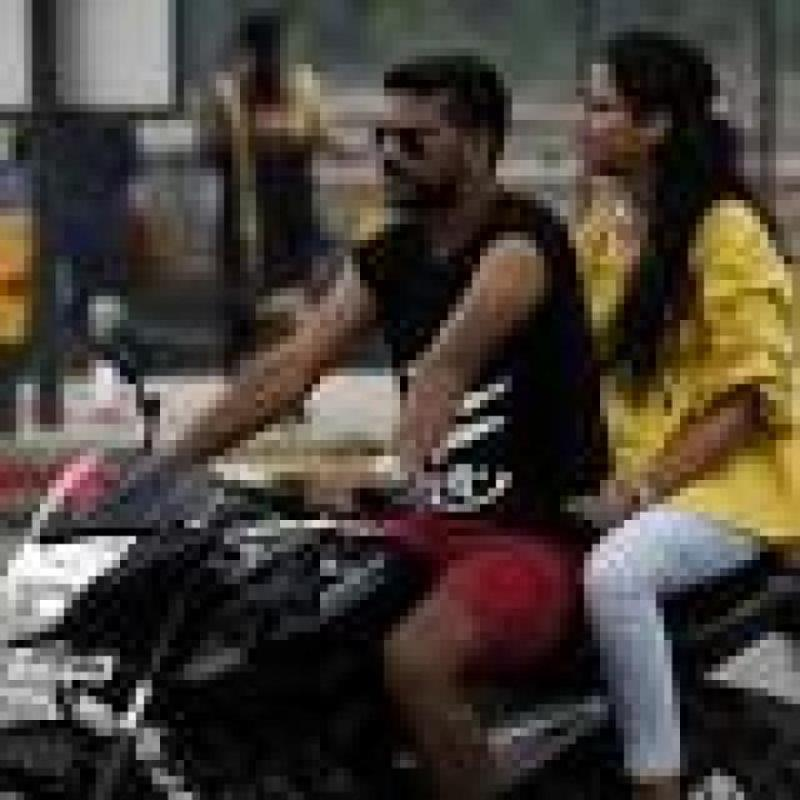nohelmet: (570, 22, 726, 182), (360, 66, 518, 202)
